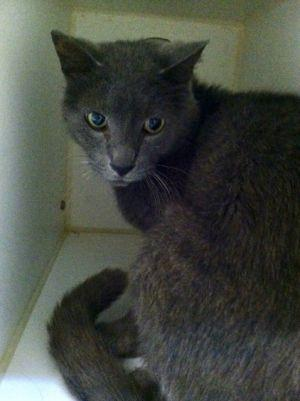rblue: (41, 20, 227, 207)
